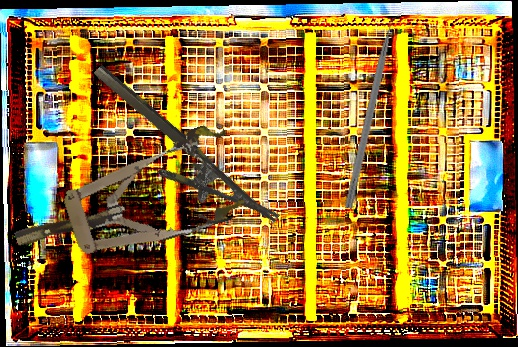Chopper: (344, 9, 409, 212)
Needle Holder: (71, 62, 281, 252)
Speculum: (0, 119, 252, 285)
